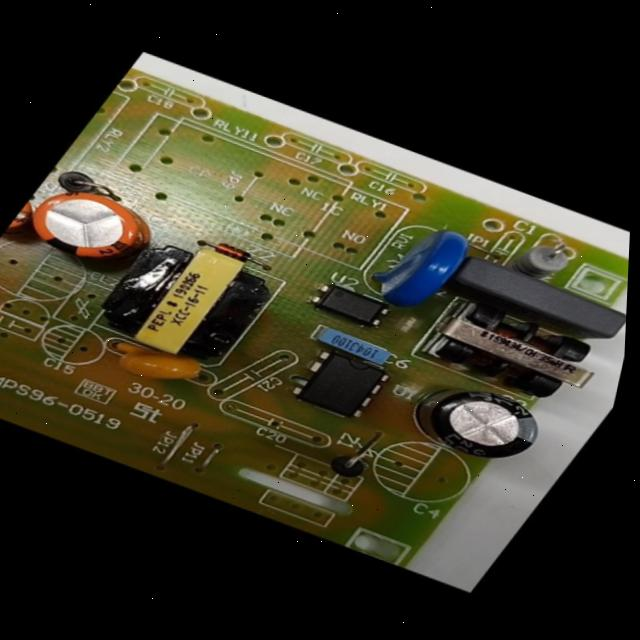Cap1: (10, 174, 172, 281)
Cap3: (391, 369, 557, 474)
MOSFET: (286, 346, 396, 424)
Mov: (360, 212, 483, 321)
Resistor: (499, 229, 582, 289)
Transformer: (79, 220, 296, 383), (416, 293, 614, 412)
